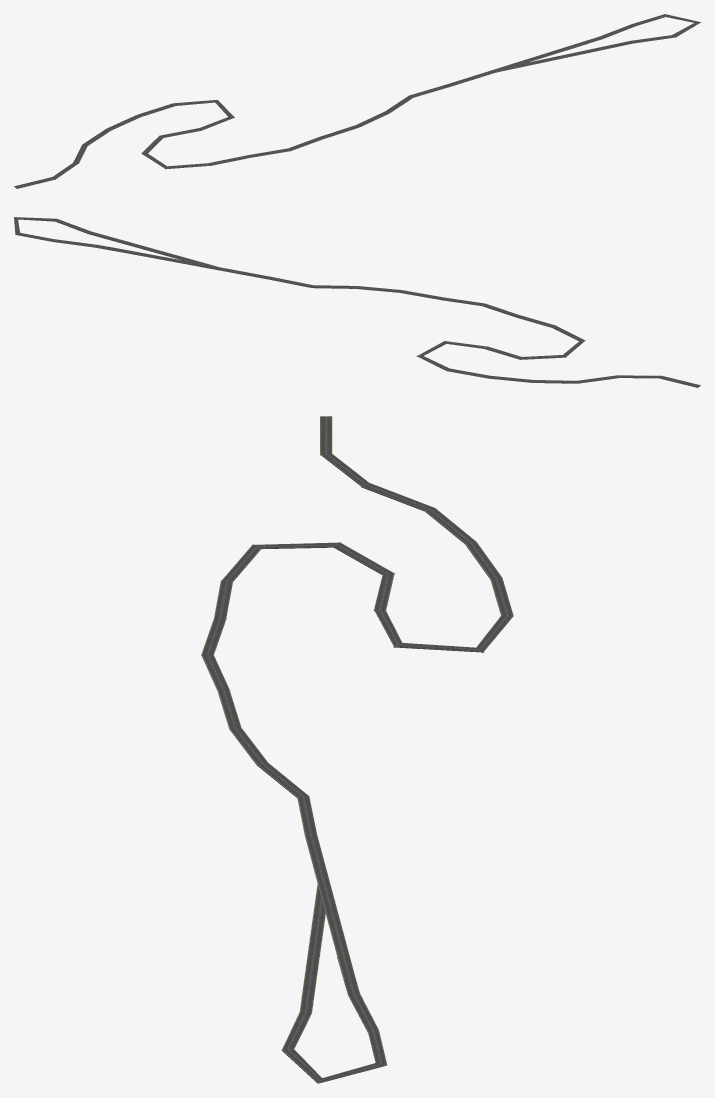
The model's file is final_road.obj.
3 renders of one model, top to bottom at view 1: azimuth 30°, elevation 25°; view 2: azimuth 150°, elevation 25°; view 3: azimuth 270°, elevation 25°, orthographic. The views are drawn at different scales.
Parts seen in each view (by area): view 1: rua_Cubo.003, rua_Cubo.004, rua_Cubo; view 2: rua_Cubo.003, rua_Cubo.004, rua_Cubo; view 3: rua_Cubo.003, rua_Cubo.004, rua_Cubo.
Part boxes in pixels (bbox=[...]): rua_Cubo.003: bbox=[14, 39, 592, 188]; rua_Cubo.004: bbox=[566, 14, 700, 51]; rua_Cubo: bbox=[496, 46, 616, 72]; rua_Cubo.003: bbox=[107, 246, 700, 387]; rua_Cubo.004: bbox=[14, 217, 138, 252]; rua_Cubo: bbox=[114, 241, 217, 266]; rua_Cubo.003: bbox=[201, 416, 513, 984]; rua_Cubo.004: bbox=[281, 956, 387, 1083]; rua_Cubo: bbox=[305, 883, 325, 985].
Bounding box in the file's own units: 552 × 0.455 × 109.
3 materials, 3 textured.
